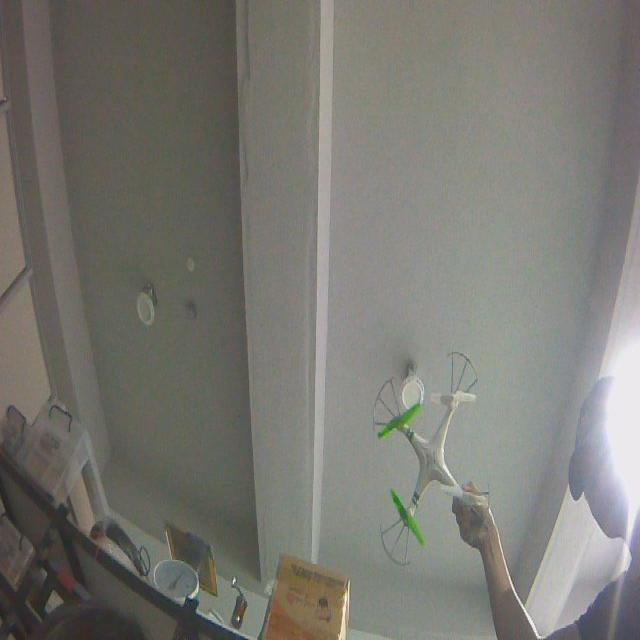drone: (371, 349, 491, 568)
